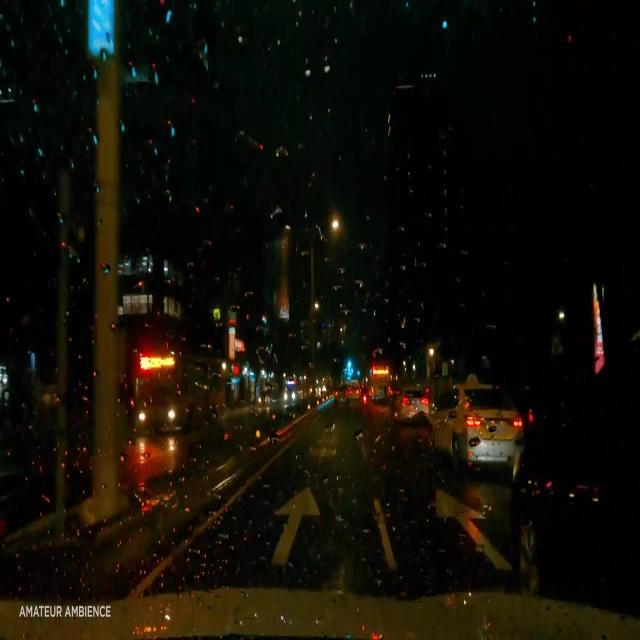Car: (512, 347, 639, 599), (429, 385, 520, 471), (394, 382, 427, 421)
